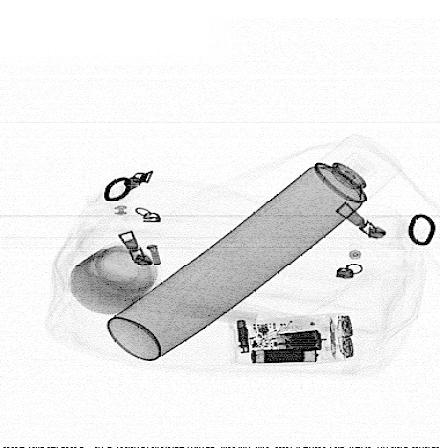Sprayer: (106, 132, 405, 361)
